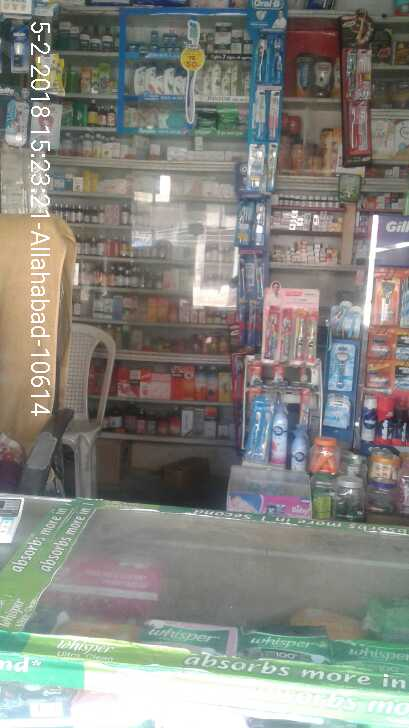oralcare: (248, 4, 285, 162), (239, 164, 265, 339)
vicks: (128, 24, 190, 58)
